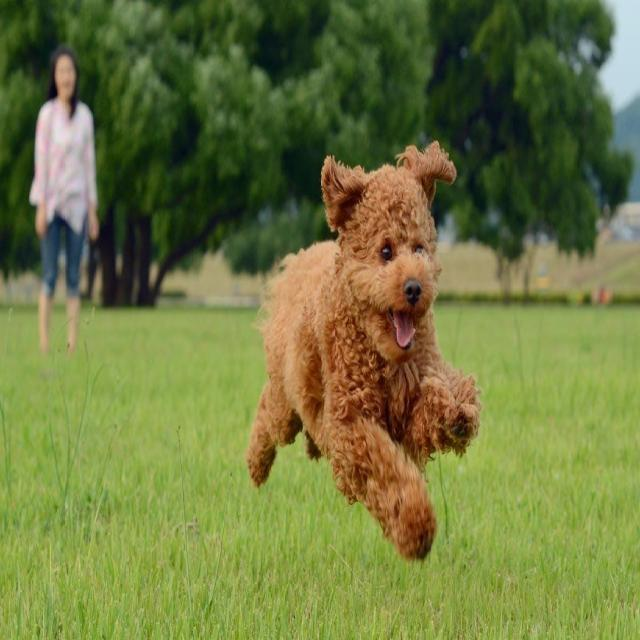adult_dog: (242, 139, 484, 570)
non-dog: (25, 48, 104, 361)
